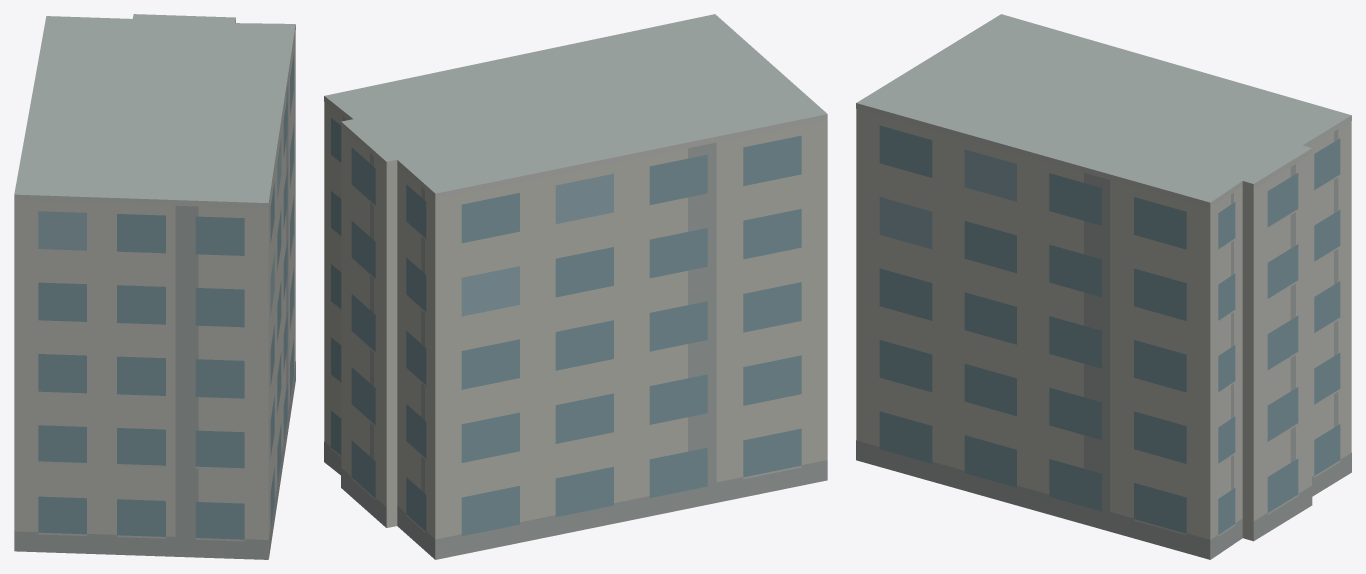
Rendered from residential-46a80b46-230e-45e2-887f-a1ffea9b4ca3.glb.
3 renders of one model, left to right at view 1: azimuth 30°, elevation 25°; view 2: azimuth 150°, elevation 25°; view 3: azimuth 270°, elevation 25°, orthographic. The views are drawn at different scales.
Visible parts, largest first — view 1: residential-46a80b46-230e-45e2-887f-a1ffea9b4ca3.tmp; view 2: residential-46a80b46-230e-45e2-887f-a1ffea9b4ca3.tmp; view 3: residential-46a80b46-230e-45e2-887f-a1ffea9b4ca3.tmp.
Part boxes in pixels (box(x1,y1,x2,y2)): residential-46a80b46-230e-45e2-887f-a1ffea9b4ca3.tmp: box(14, 14, 295, 559); residential-46a80b46-230e-45e2-887f-a1ffea9b4ca3.tmp: box(324, 14, 827, 559); residential-46a80b46-230e-45e2-887f-a1ffea9b4ca3.tmp: box(856, 14, 1351, 559).
Bounding box in the file's own units: 17.28 × 15.25 × 19.18.
